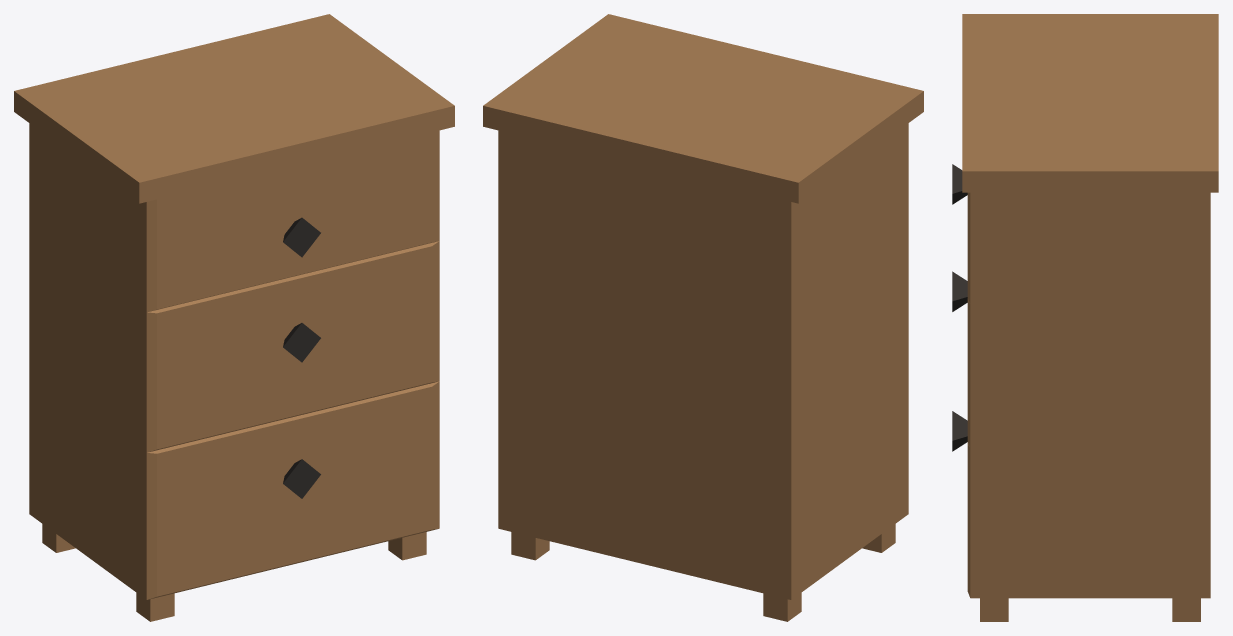
File: Drawer_2B.fbx
3 renders of one model, left to right at view 1: azimuth 30°, elevation 25°; view 2: azimuth 150°, elevation 25°; view 3: azimuth 270°, elevation 25°, orthographic. The views are drawn at different scales.
Parts seen in each view (by area): view 1: polySurface2329; view 2: polySurface2329; view 3: polySurface2329.
Boxes of the visible parts, <box> form: polySurface2329: <box>14,14,454,621</box>; polySurface2329: <box>483,14,923,621</box>; polySurface2329: <box>952,14,1218,621</box>.
Size of the model in its own units: 1.16 by 1.58 by 0.8313.
Materials: 1 (1 with a texture image).
